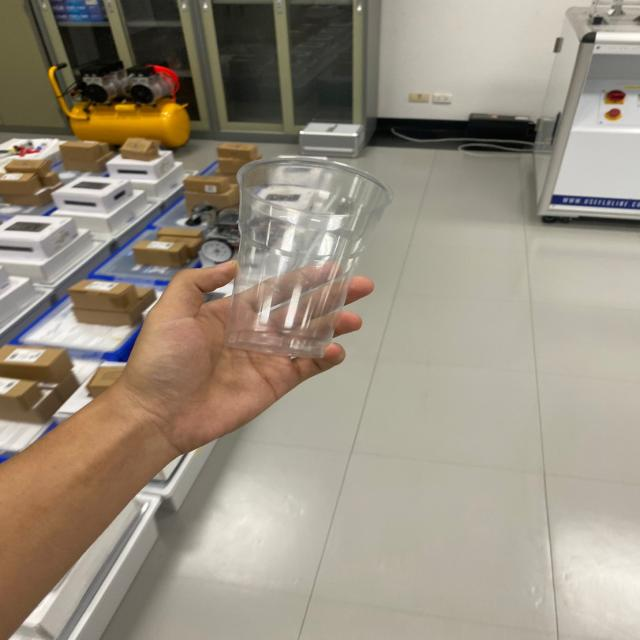glass: (221, 148, 396, 361)
